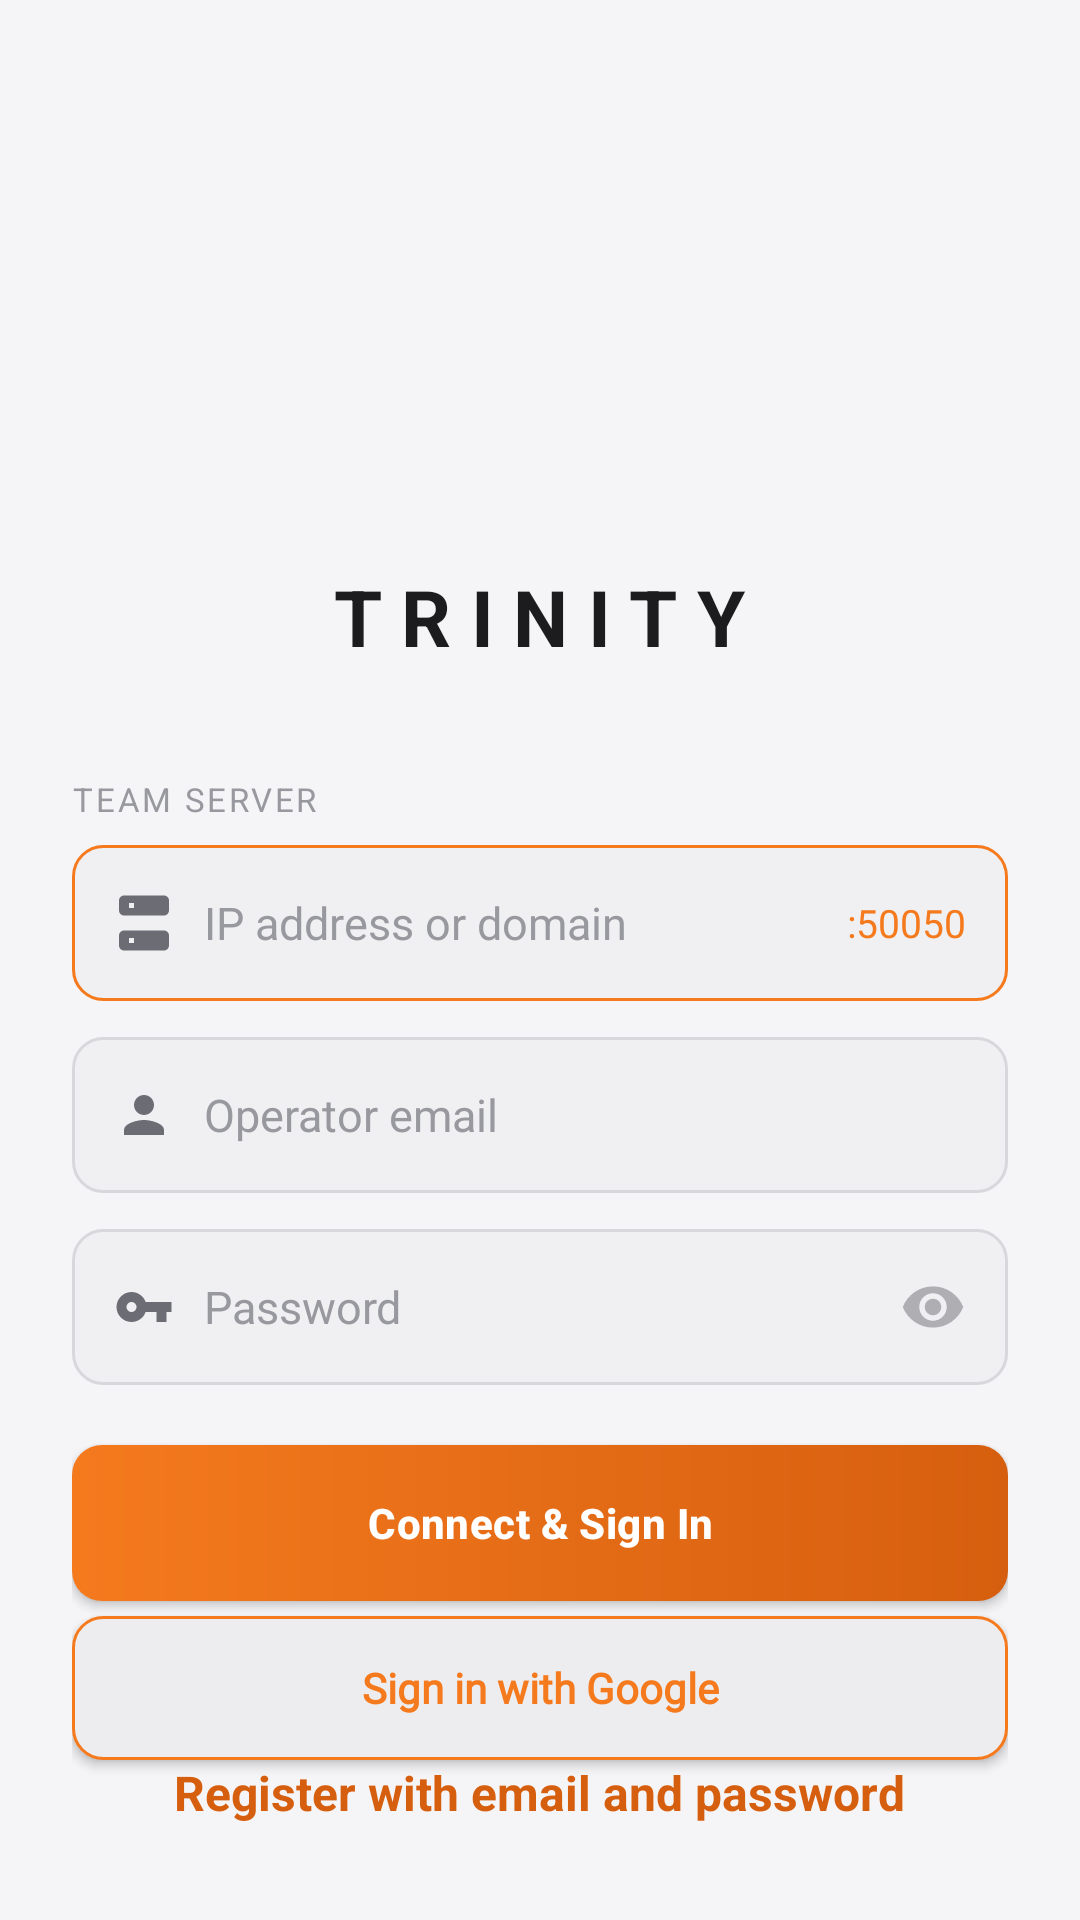

Point at icon controls on the screen. Image size 1080 × 1920, points as point (x, y).
key: point (144, 1307)
person: point (144, 1115)
